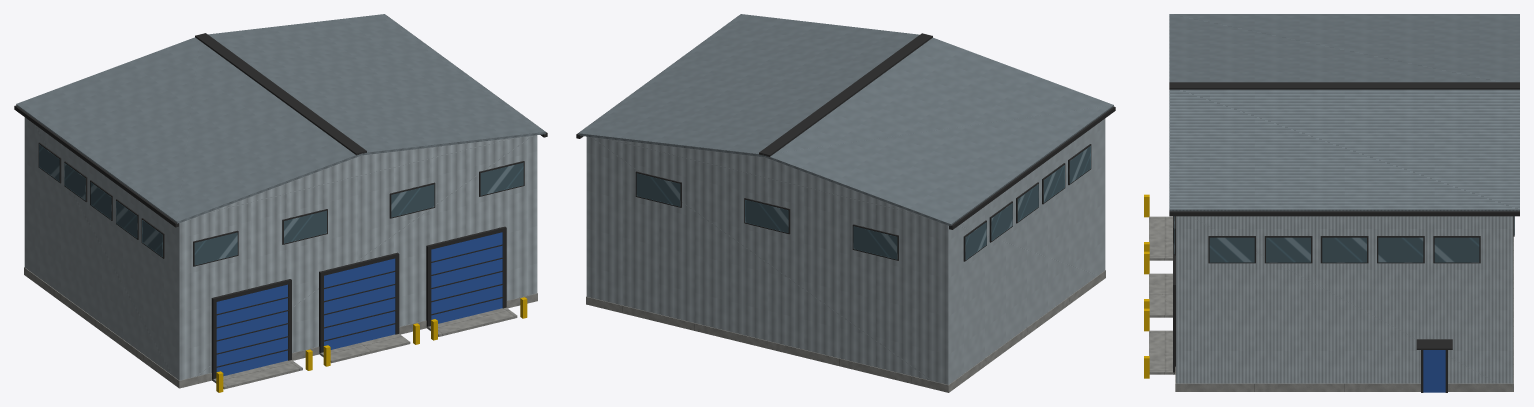
The model's file is warehouse_industrial_variant_b.glb.
3 views of the same model, side by side, from view 1: azimuth 30°, elevation 25°; view 2: azimuth 150°, elevation 25°; view 3: azimuth 270°, elevation 25° (orthographic). The views are drawn at different scales.
Parts seen in each view (by area): view 1: corrugated_9CA6AB, corrugated_6F7A80, flat_2C2C2C, flat_2F5DA8, glass_87CEEB, concrete_8C8C88, flat_E0B000; view 2: corrugated_9CA6AB, corrugated_6F7A80, flat_2C2C2C, glass_87CEEB, concrete_8C8C88; view 3: corrugated_6F7A80, corrugated_9CA6AB, flat_2C2C2C, concrete_8C8C88, glass_87CEEB, flat_2F5DA8, flat_E0B000.
Boxes of the visible parts, x1,y1,x2,y2 form: corrugated_9CA6AB: (24,117,537,380); corrugated_6F7A80: (16,14,545,223); flat_2C2C2C: (14,33,547,380); flat_2F5DA8: (216,232,502,376); glass_87CEEB: (39,144,523,264); concrete_8C8C88: (24,267,537,389); flat_E0B000: (216,297,527,392); corrugated_9CA6AB: (586,118,1105,384); corrugated_6F7A80: (578,14,1113,225); flat_2C2C2C: (576,33,1115,261); glass_87CEEB: (636,146,1090,259); concrete_8C8C88: (586,270,1105,392); corrugated_6F7A80: (1169,14,1519,211); corrugated_9CA6AB: (1176,216,1513,383); flat_2C2C2C: (1169,82,1519,392); concrete_8C8C88: (1149,216,1513,391); glass_87CEEB: (1174,217,1514,262); flat_2F5DA8: (1423,350,1445,392); flat_E0B000: (1144,194,1149,378).
Bounding box in the file's own units: 21.4 × 10.4 × 16.73.
7 materials, 7 textured.
